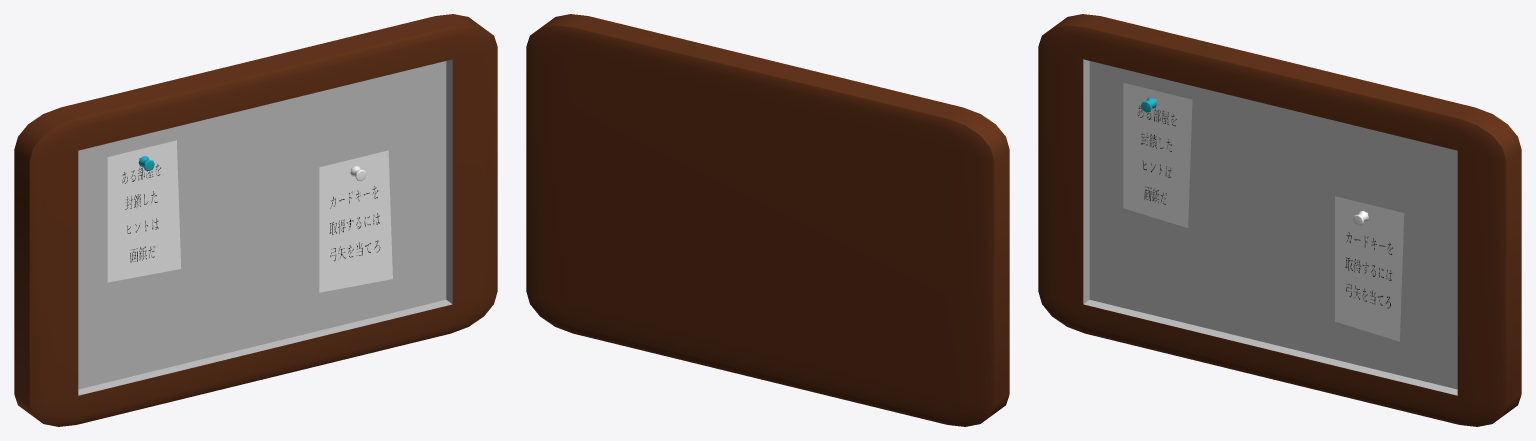
File: keigi4.fbx
The picture shows the model from 3 angles, left to right: view 1: azimuth 30°, elevation 25°; view 2: azimuth 150°, elevation 25°; view 3: azimuth 330°, elevation 25°; orthographic projection.
Parts seen in each view (by area): view 1: obj1, obj2, obj8; view 2: obj1; view 3: obj1, obj2, obj8.
Boxes of the visible parts, x1=… form: obj1: x1=14, y1=14, x2=497, y2=426; obj2: x1=107, y1=140, x2=181, y2=282; obj8: x1=319, y1=150, x2=392, y2=292; obj1: x1=526, y1=14, x2=1009, y2=426; obj1: x1=1038, y1=14, x2=1521, y2=426; obj2: x1=1123, y1=83, x2=1192, y2=227; obj8: x1=1335, y1=196, x2=1404, y2=341.
Size of the model in its own units: 195 by 122 by 17.05.
